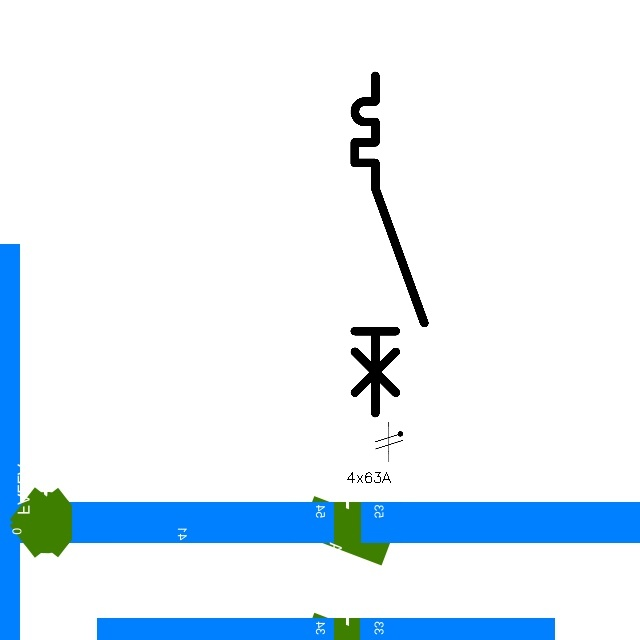interruptor_termomagnetico: (346, 67, 433, 422)
